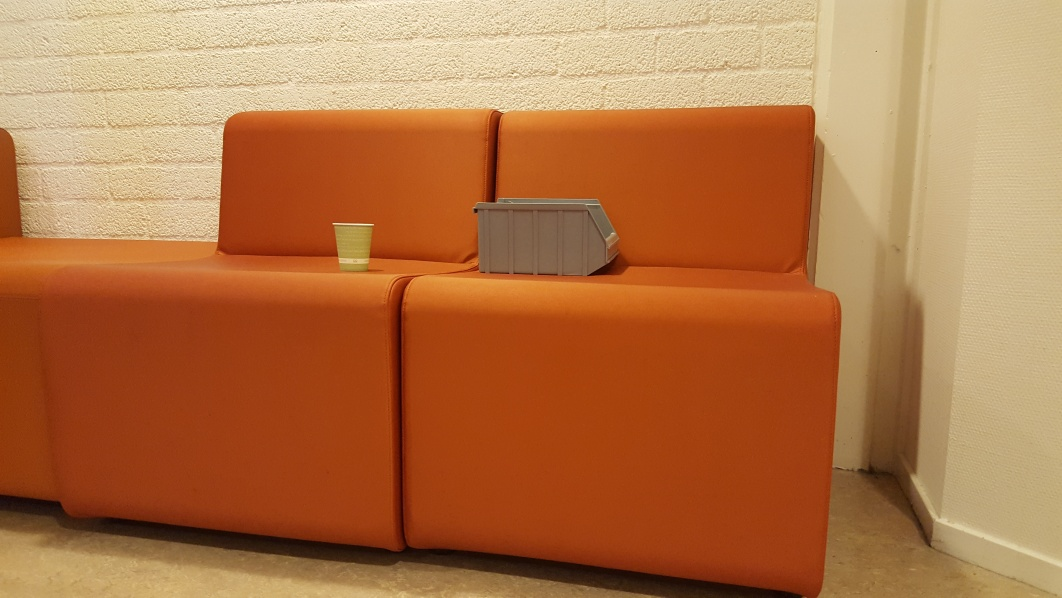cup: (332, 218, 373, 273)
tray: (474, 196, 620, 279)
